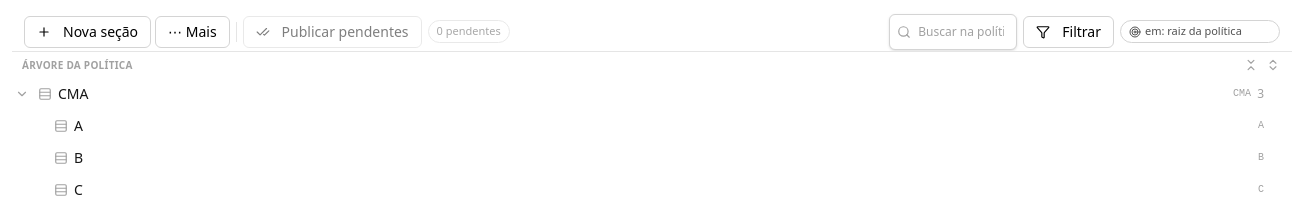
Test case: PolicyTree — filtro preserva ancestrais (§17.1) › buscar por um nó folha mantém os ancestrais visíveis, mas esmaecidos
Type "B" into the field named "Buscar na árvore". click: (953, 32)
box: left=889, top=14, right=1017, bottom=50
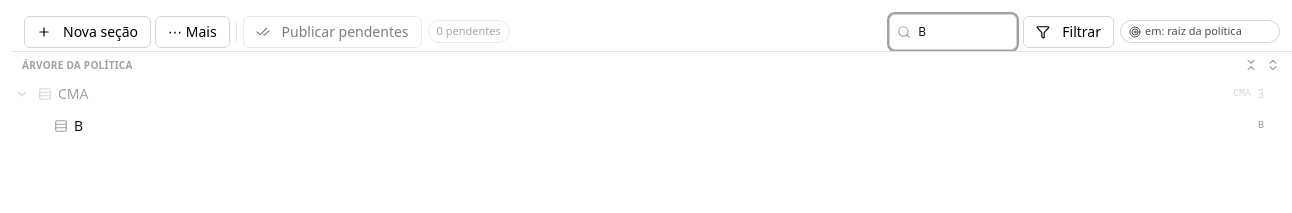
Expected: the list item with test id "tree-node-B" is shown, left=54, top=116, right=1264, bottom=135
Expected: the list item with test id "tree-node-A" is gone
Expected: the list item with test id "tree-node-C" is gone
